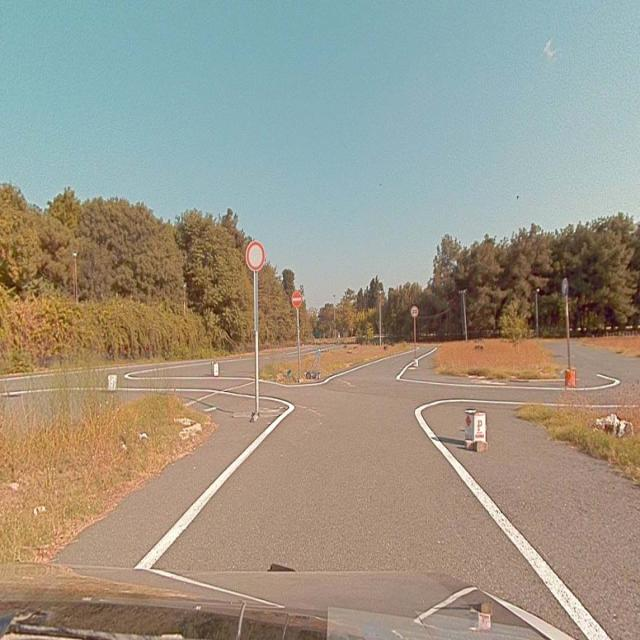20: (411, 306, 419, 317)
girisyok: (292, 290, 302, 306)
